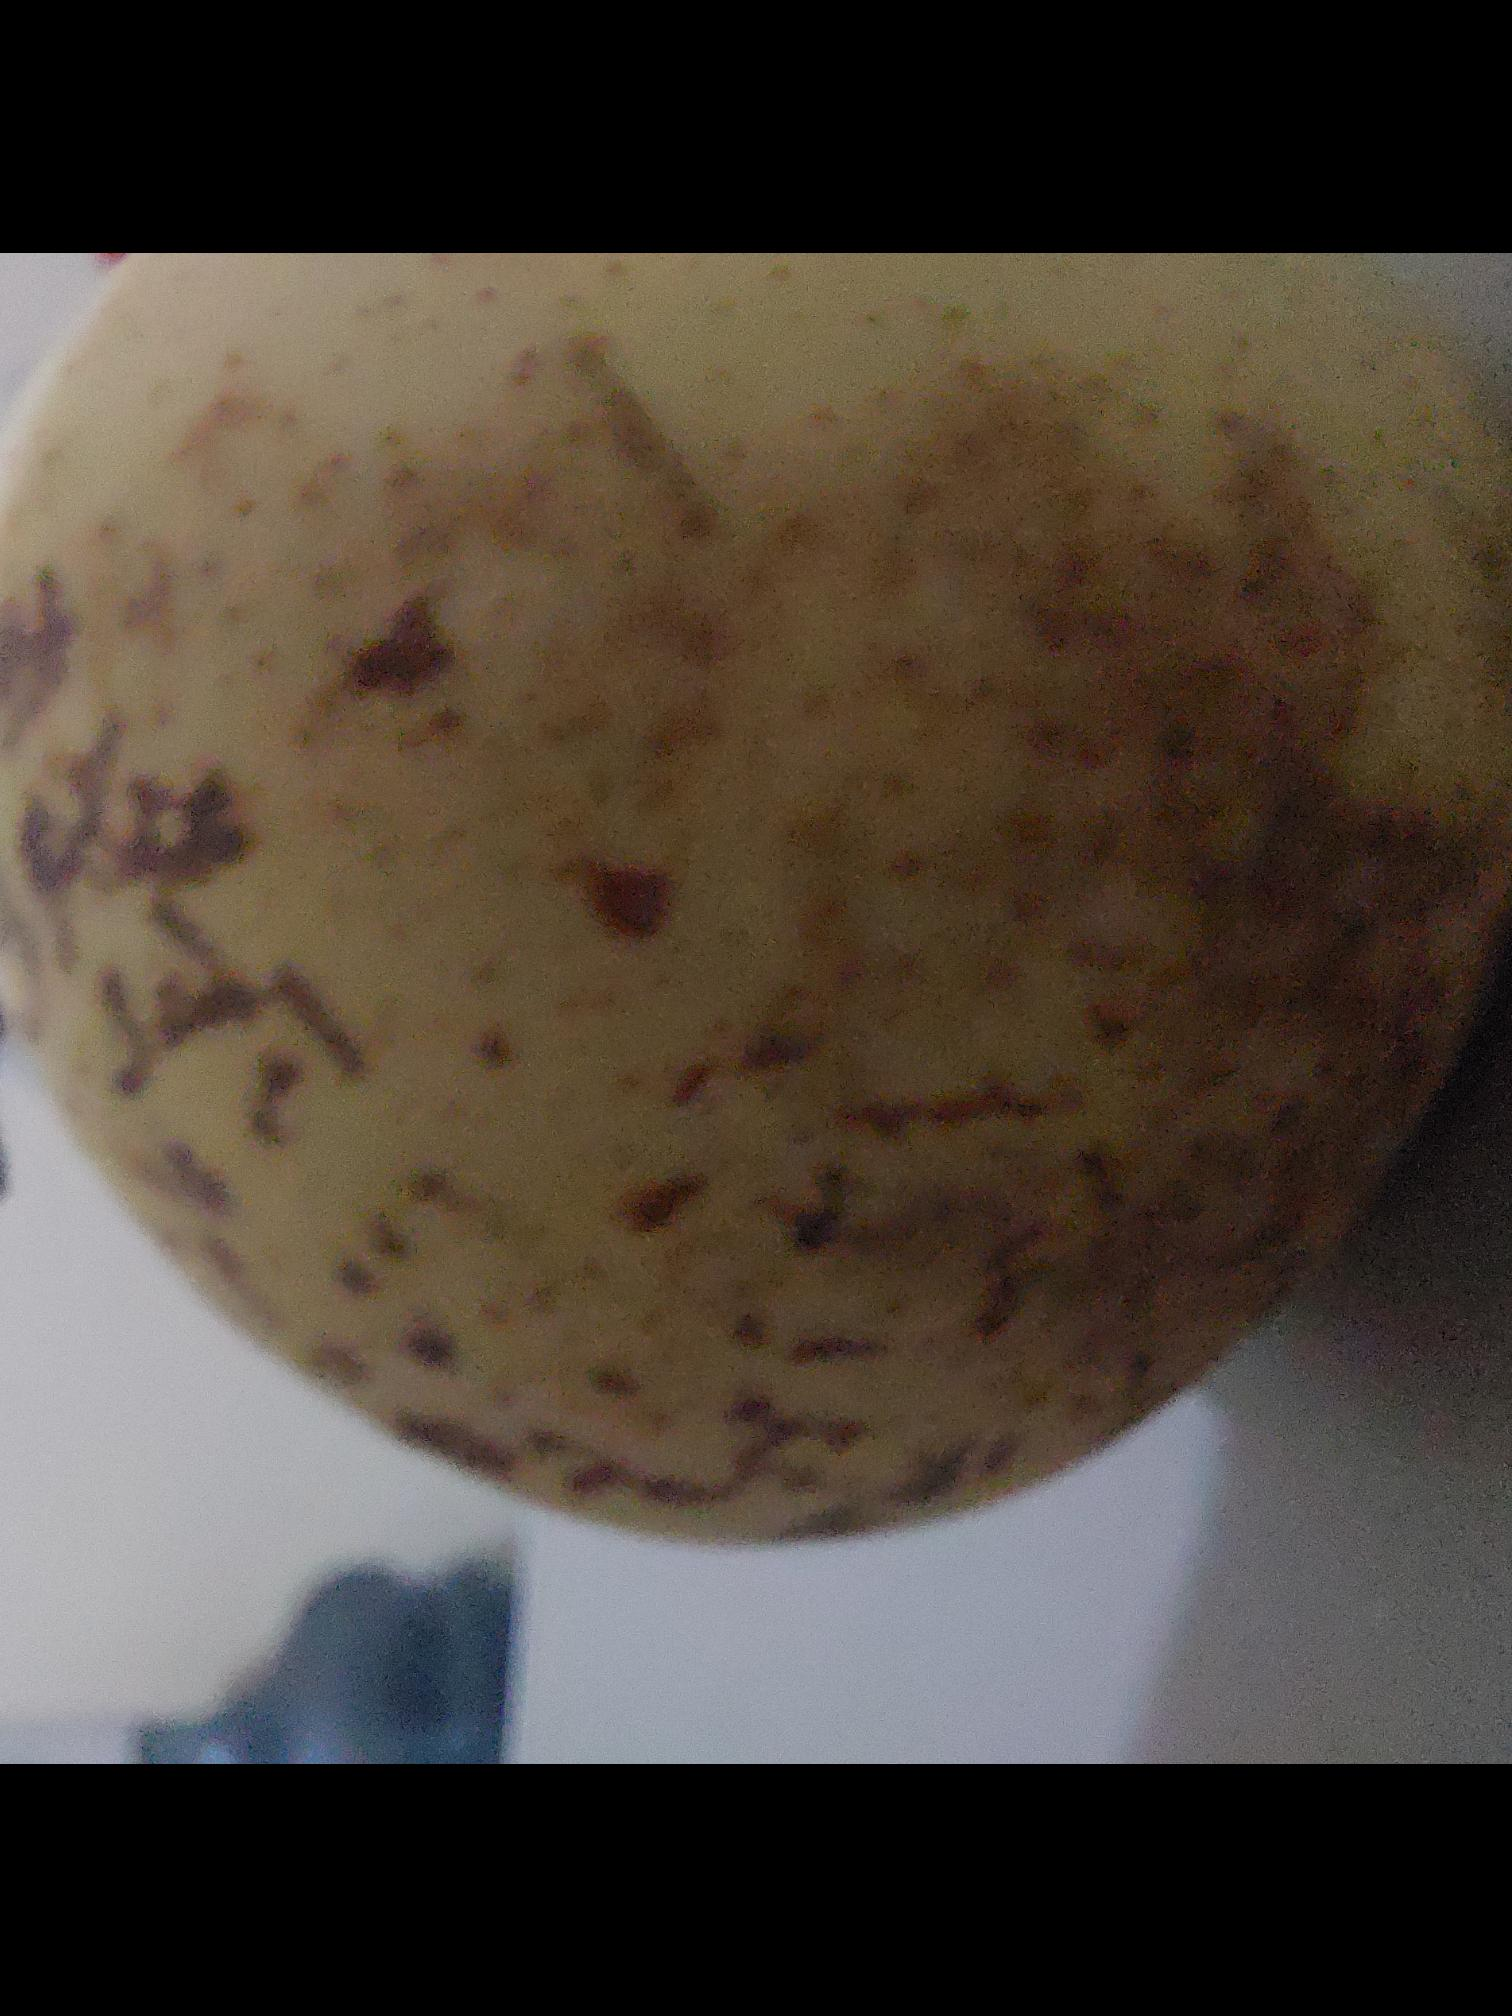Bad Pear: (0, 252, 1512, 1586)
